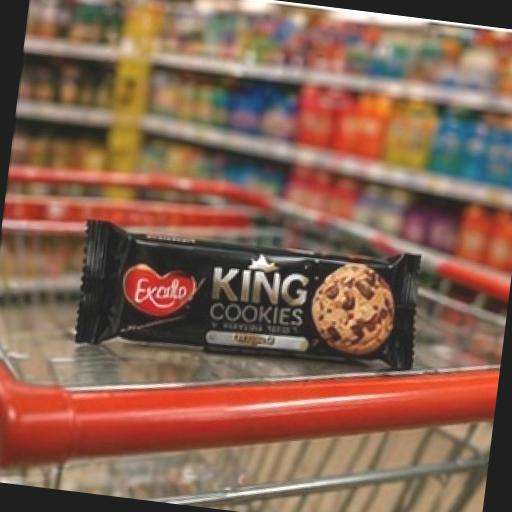king-cooking: (36, 179, 490, 426)
